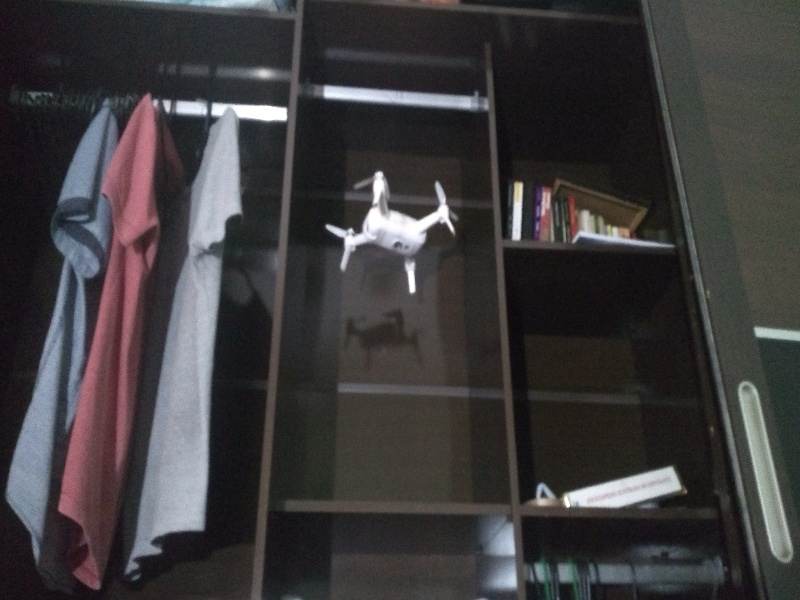drone: (324, 161, 466, 298)
